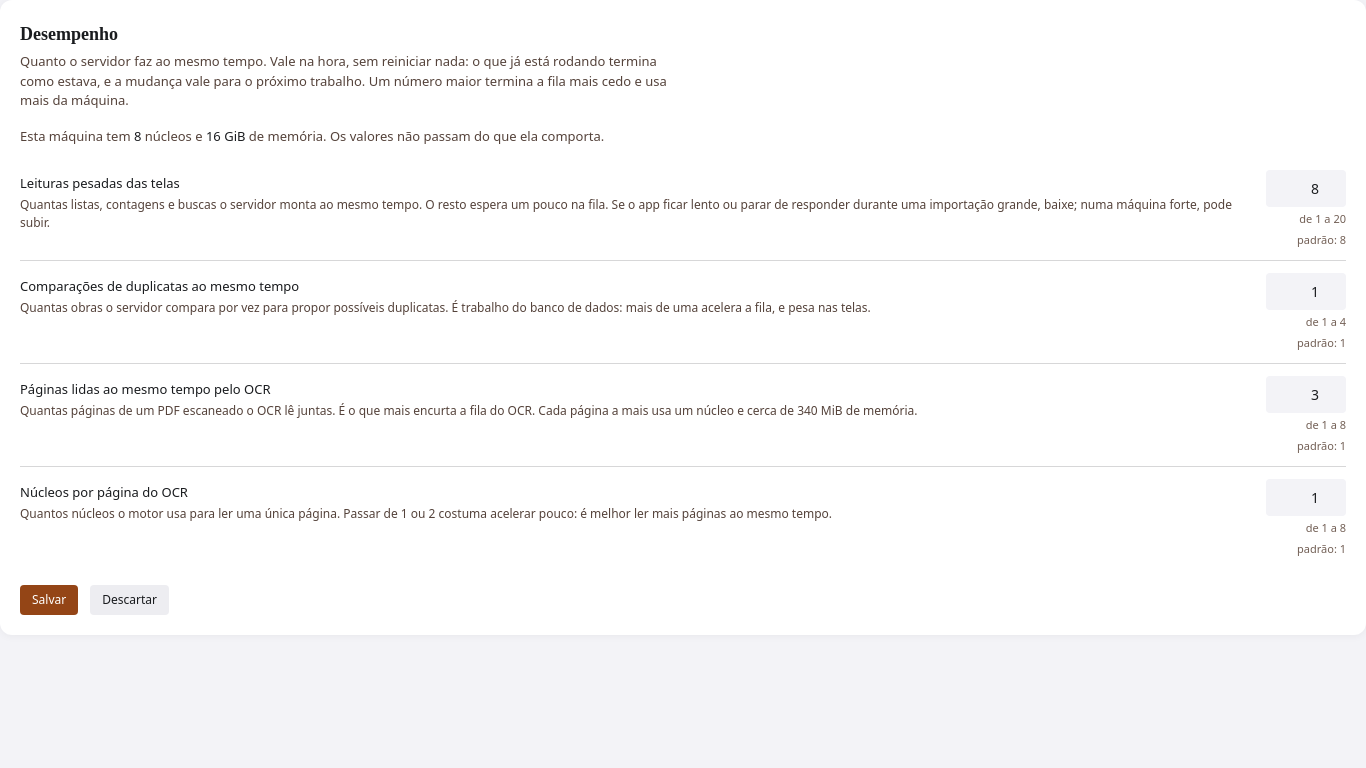
Test: PerformanceSection: the owner changes it › says in words when the server refuses, and keeps what was typed
Click the button "Salvar".
click(49, 600)  # box [20,585,78,615]
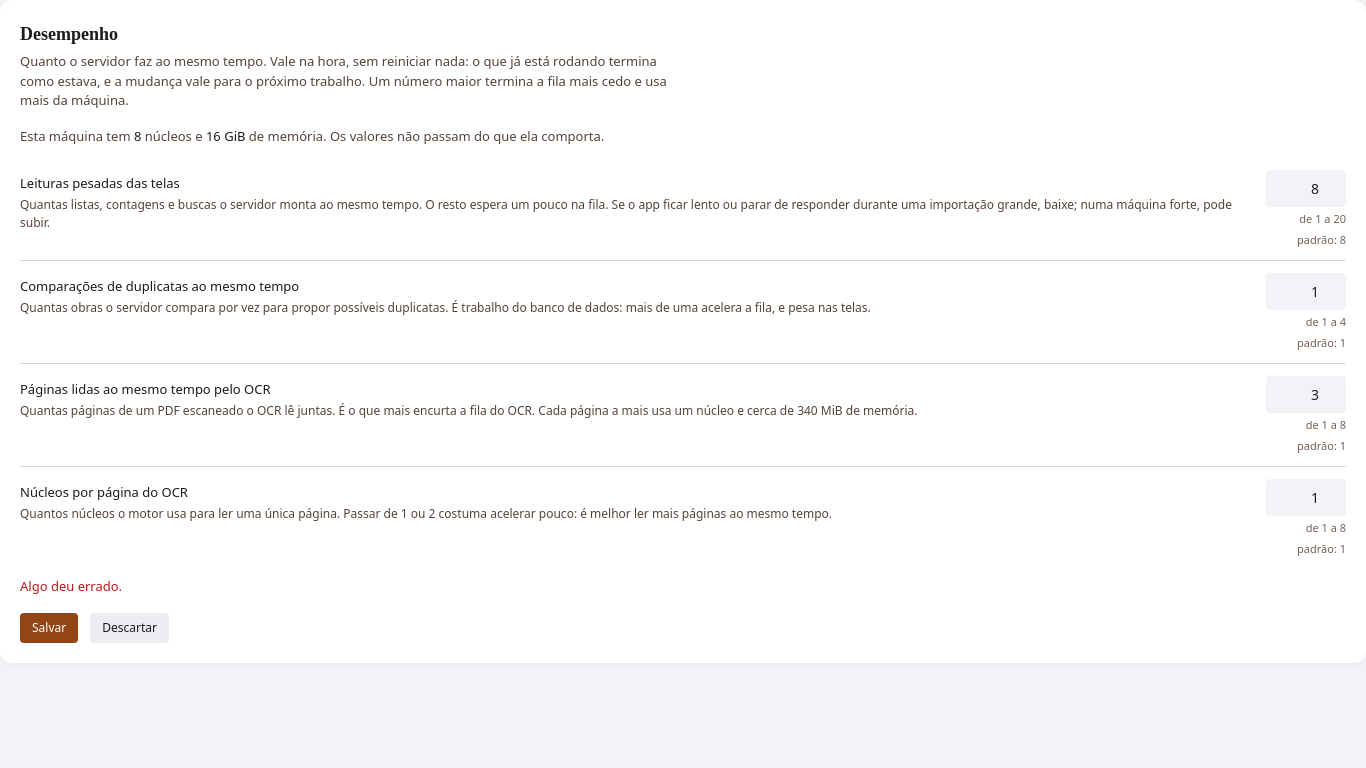
Expected: the button "Salvar" is enabled, [20,612,78,642]
Expected: the message "Algo deu errado." is shown, [20,577,122,595]
